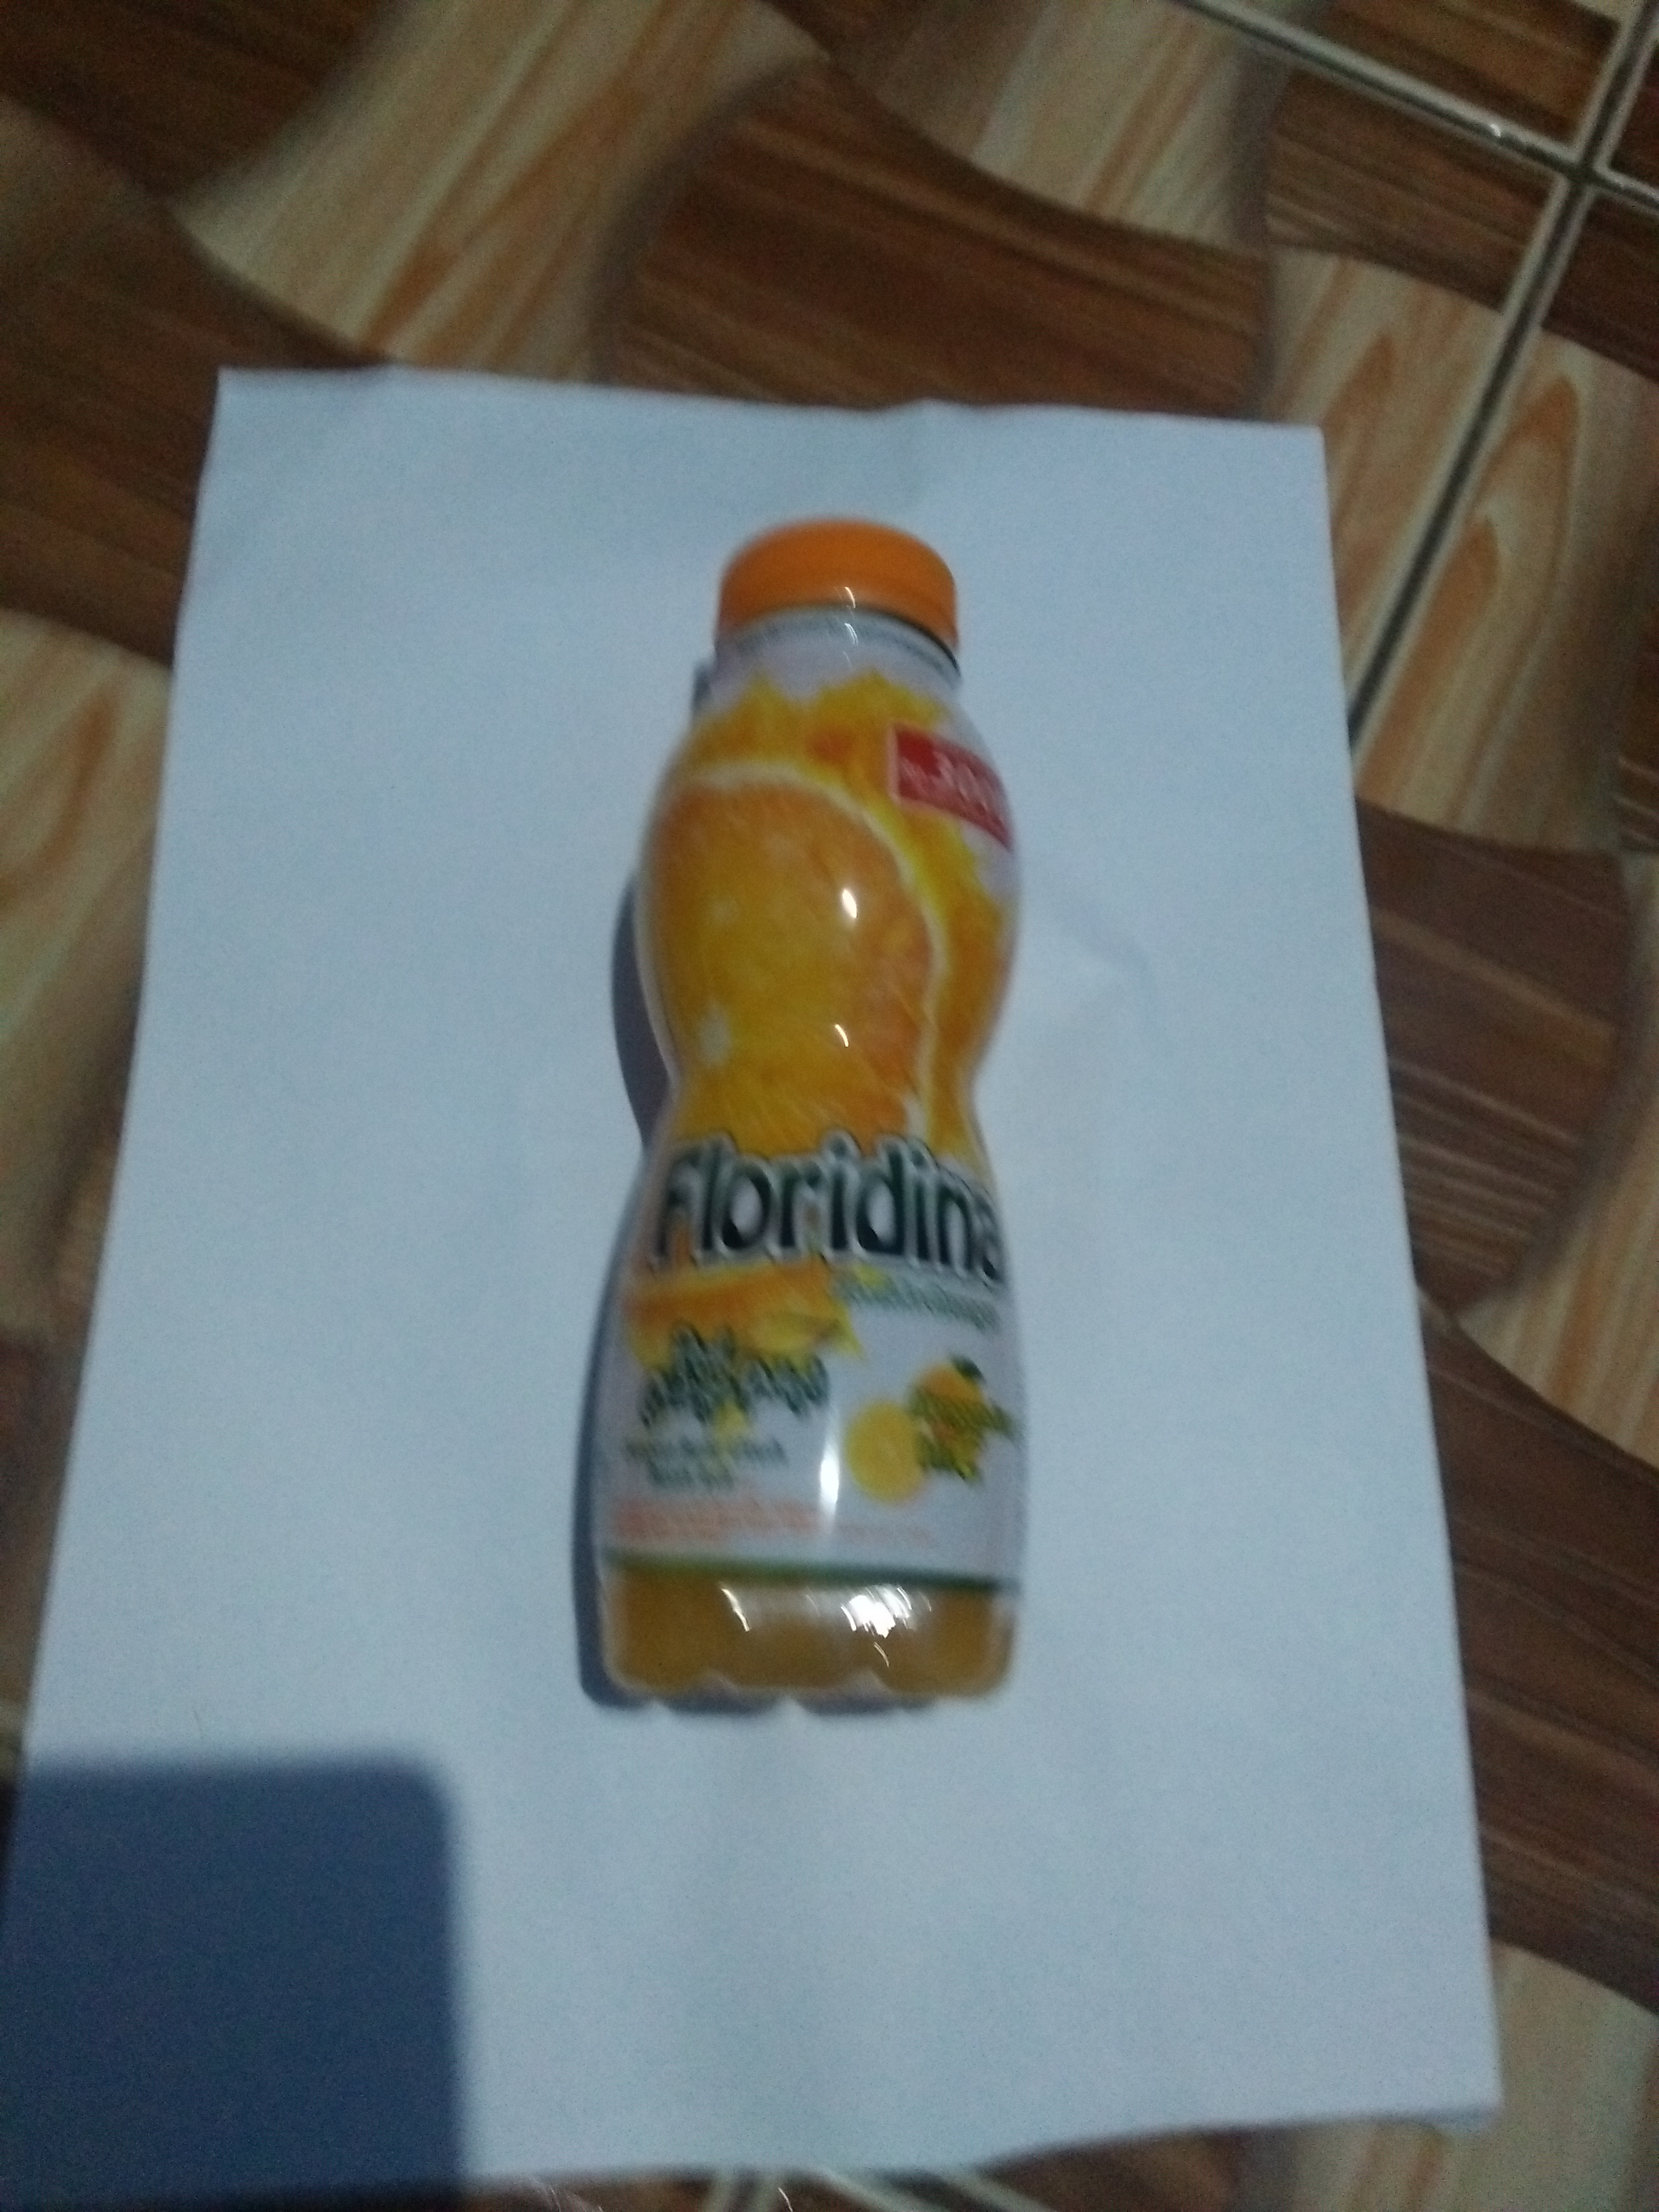Floridina: (570, 505, 1066, 1735)
